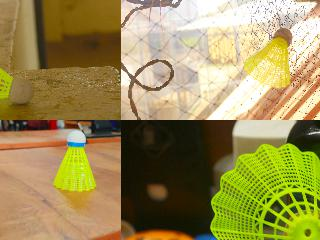shuttlecock: (210, 143, 319, 239), (242, 28, 292, 88), (52, 130, 96, 192), (0, 44, 34, 104)
